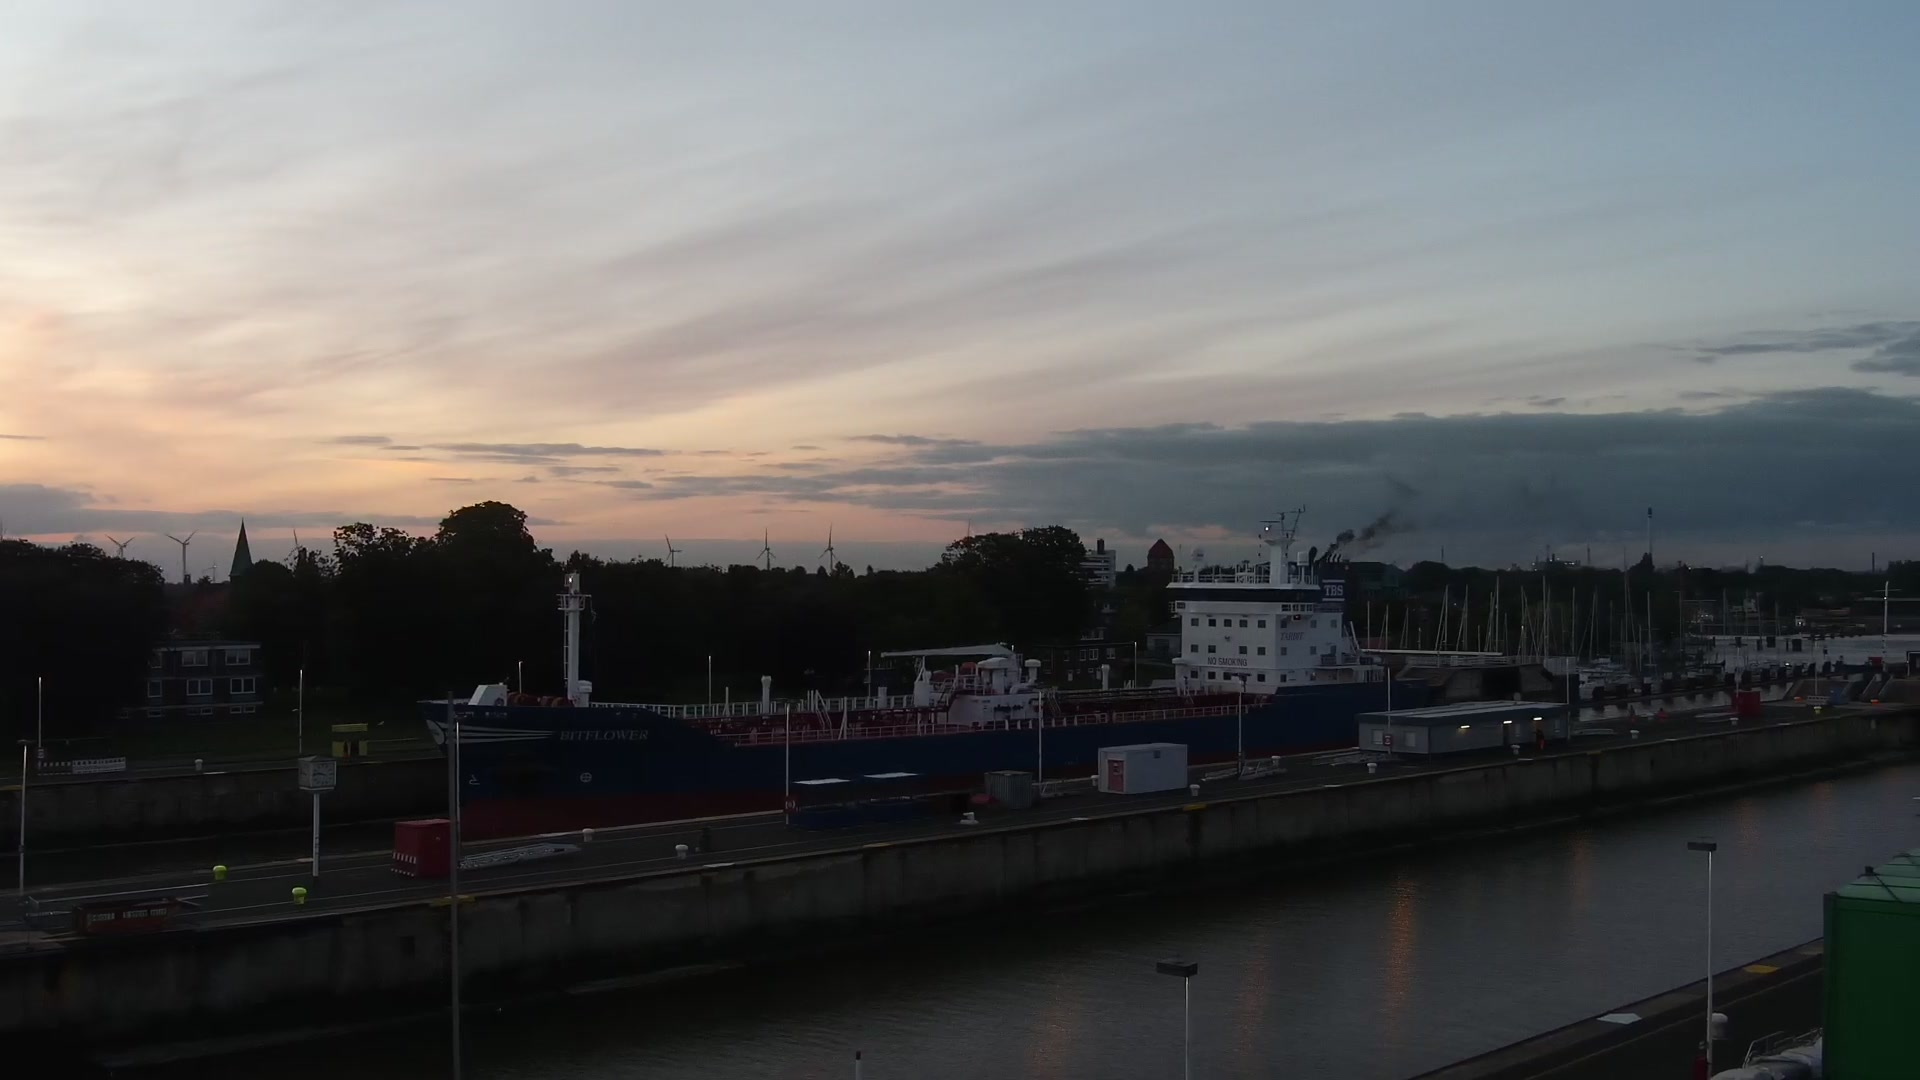sea: (414, 502, 1581, 844)
